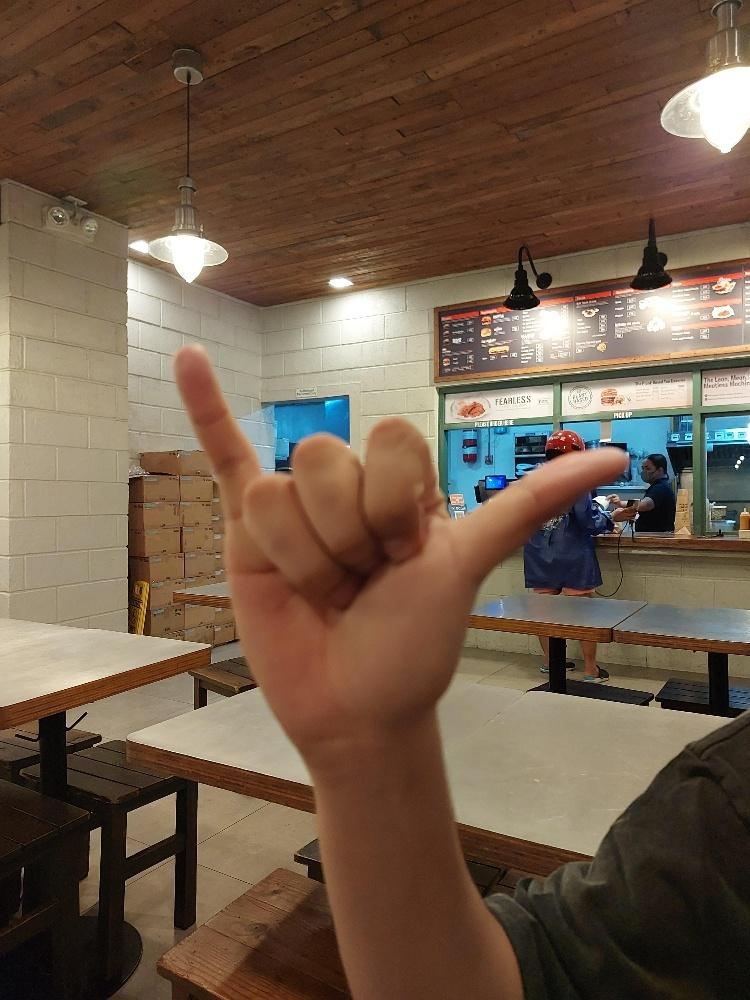y: (170, 340, 628, 748)
